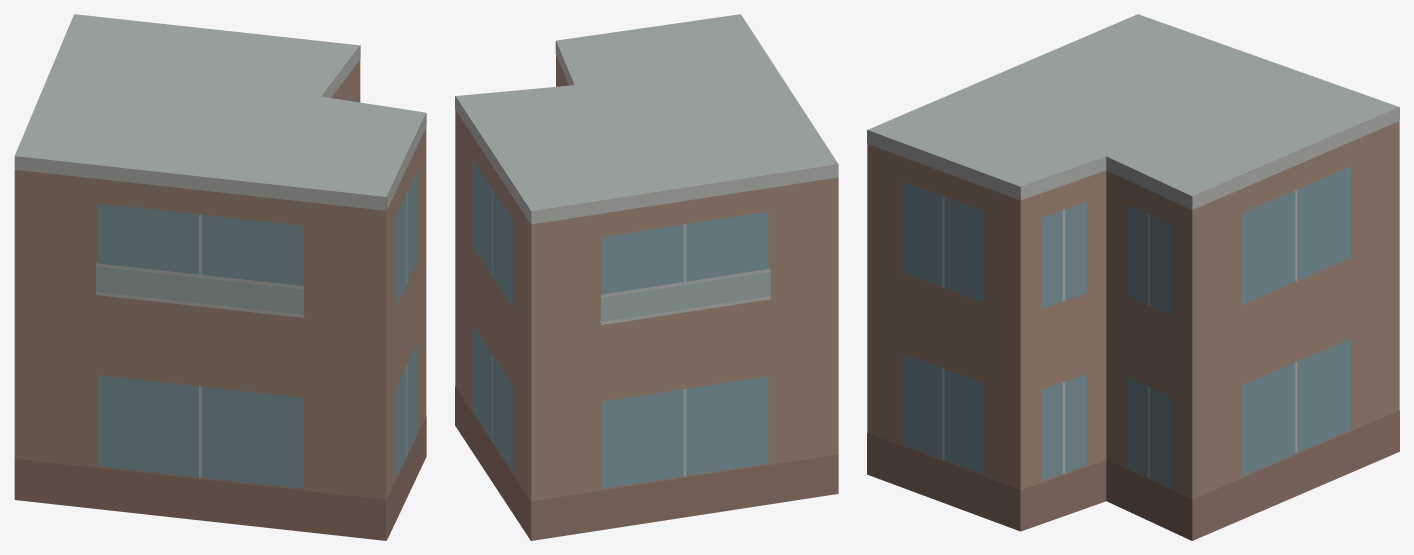
Rendered from survey-upis-32489717.glb.
3 renders of one model, left to right at view 1: azimuth 30°, elevation 25°; view 2: azimuth 150°, elevation 25°; view 3: azimuth 270°, elevation 25°, orthographic. The views are drawn at different scales.
Parts seen in each view (by area): view 1: survey-upis-32489717.tmp; view 2: survey-upis-32489717.tmp; view 3: survey-upis-32489717.tmp.
Part boxes in pixels (x1,y1,x2,y2): survey-upis-32489717.tmp: [14, 14, 426, 540]; survey-upis-32489717.tmp: [455, 14, 838, 540]; survey-upis-32489717.tmp: [867, 14, 1399, 540].
Bounding box in the file's own units: 6.93 × 6.1 × 8.55.
